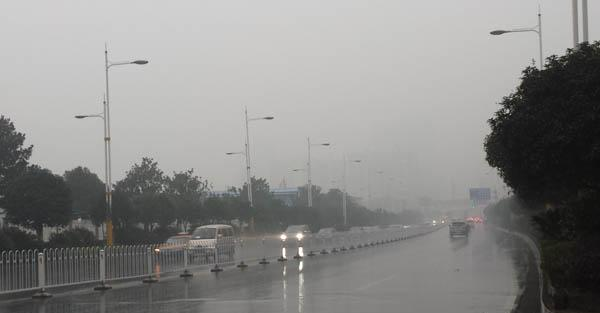car: (187, 223, 236, 261), (153, 230, 196, 264), (279, 224, 312, 247), (315, 227, 339, 245), (448, 219, 470, 238)
